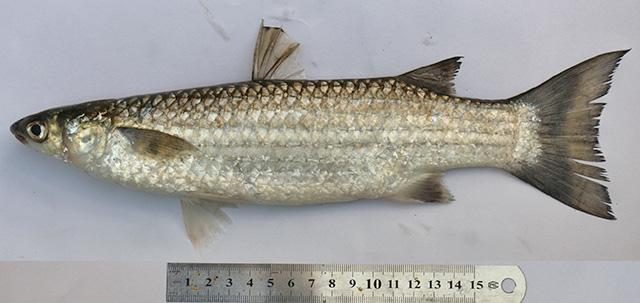Mulut: (4, 106, 38, 158)
Sirip Anal: (383, 162, 463, 210)
Sirip Dada: (115, 118, 207, 172)
Sirip Ekor: (523, 45, 631, 228)
Sirip Perut: (175, 186, 245, 258)
Sirip Punggung: (239, 22, 467, 94)
